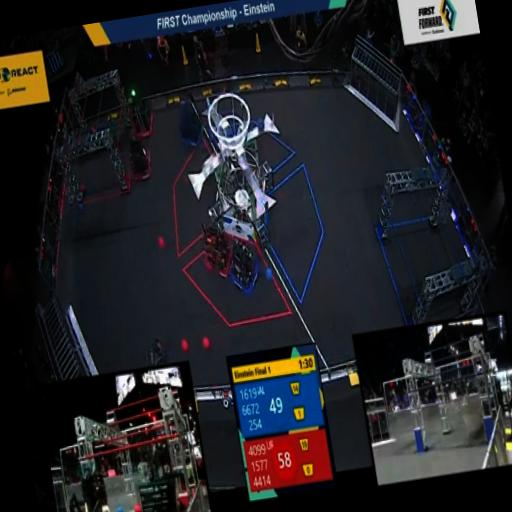robot: (194, 213, 240, 284), (221, 231, 267, 300), (172, 93, 209, 156), (120, 82, 158, 140), (121, 130, 157, 186), (138, 331, 175, 371)
